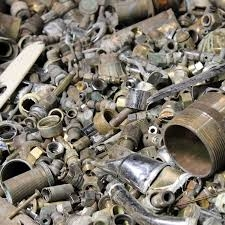metal: (94, 140, 202, 202), (161, 88, 225, 182), (102, 178, 200, 225), (22, 65, 78, 131), (1, 160, 57, 204), (119, 83, 155, 116), (88, 106, 128, 135), (176, 43, 221, 68), (34, 110, 68, 141), (143, 46, 186, 70), (40, 181, 75, 202), (41, 138, 69, 158)
